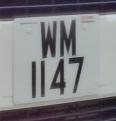1: (27, 58, 42, 104), (36, 57, 50, 103)
4: (48, 56, 69, 101)
7: (66, 55, 88, 98)
M: (56, 17, 80, 60)
W: (37, 19, 59, 59)
